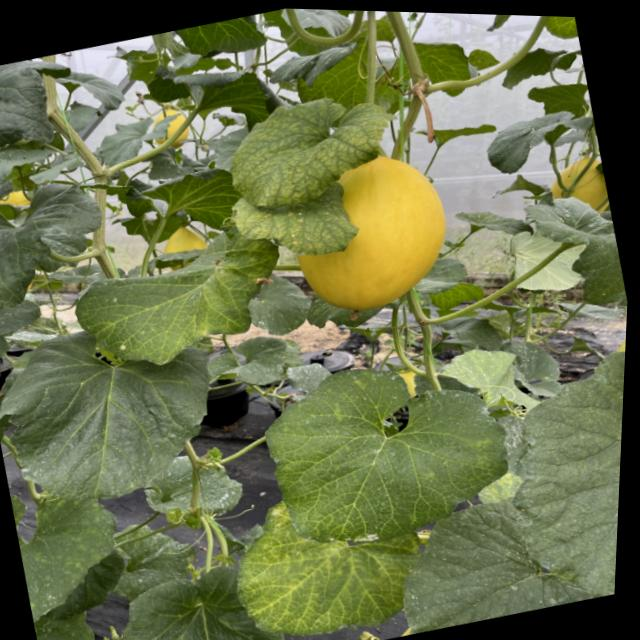CMV: (50, 217, 293, 393)
alternaria leaf blight: (261, 336, 525, 553), (225, 474, 431, 640), (214, 80, 403, 221), (228, 173, 363, 272)
powdery mildew: (0, 327, 217, 513), (489, 343, 625, 610), (385, 481, 603, 639), (89, 554, 281, 640), (10, 493, 143, 614), (523, 192, 632, 330), (478, 91, 602, 175), (134, 443, 247, 528)
